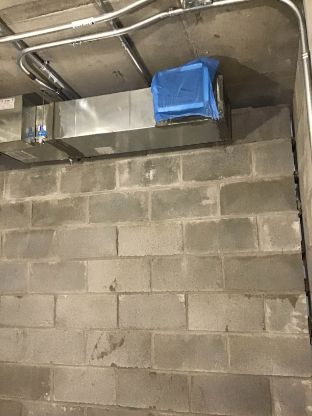Duct: (1, 46, 239, 173)
